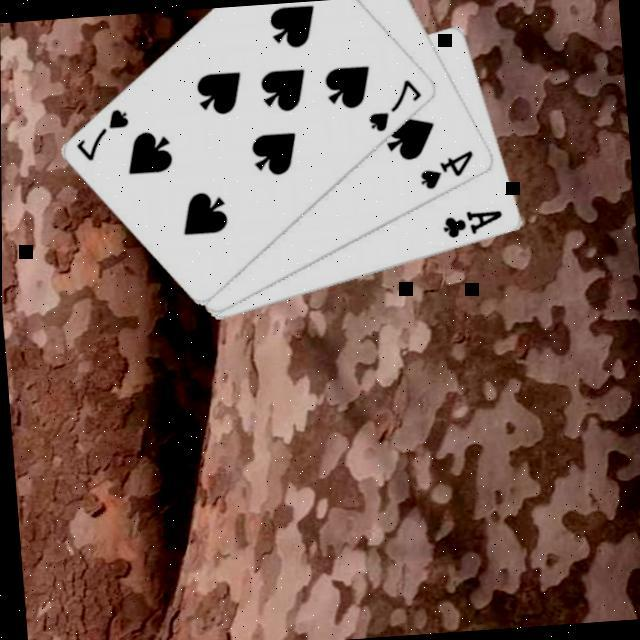4S: (415, 145, 479, 191)
7S: (71, 102, 136, 163), (362, 73, 428, 133)
AC: (440, 203, 508, 240)
